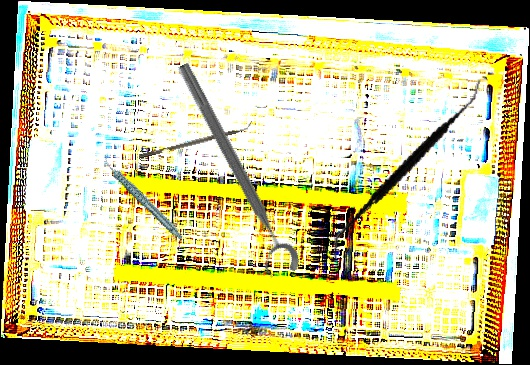Chopper: (137, 121, 254, 159)
Fixation Ring: (159, 59, 305, 284)
Handpiece: (101, 142, 184, 253)
Spatula Surgical: (330, 57, 485, 280)
